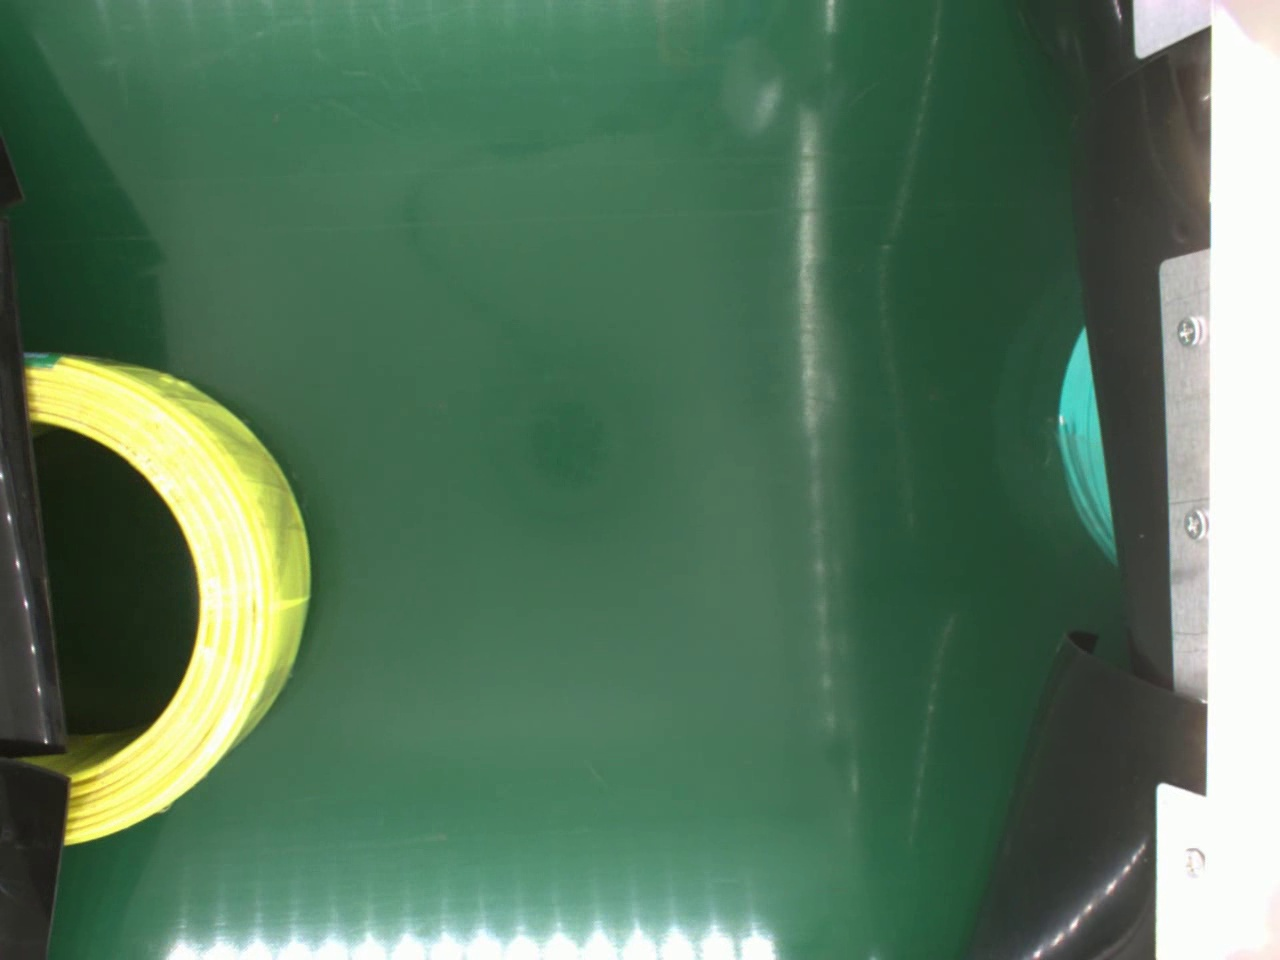yellow: (24, 348, 315, 856)
